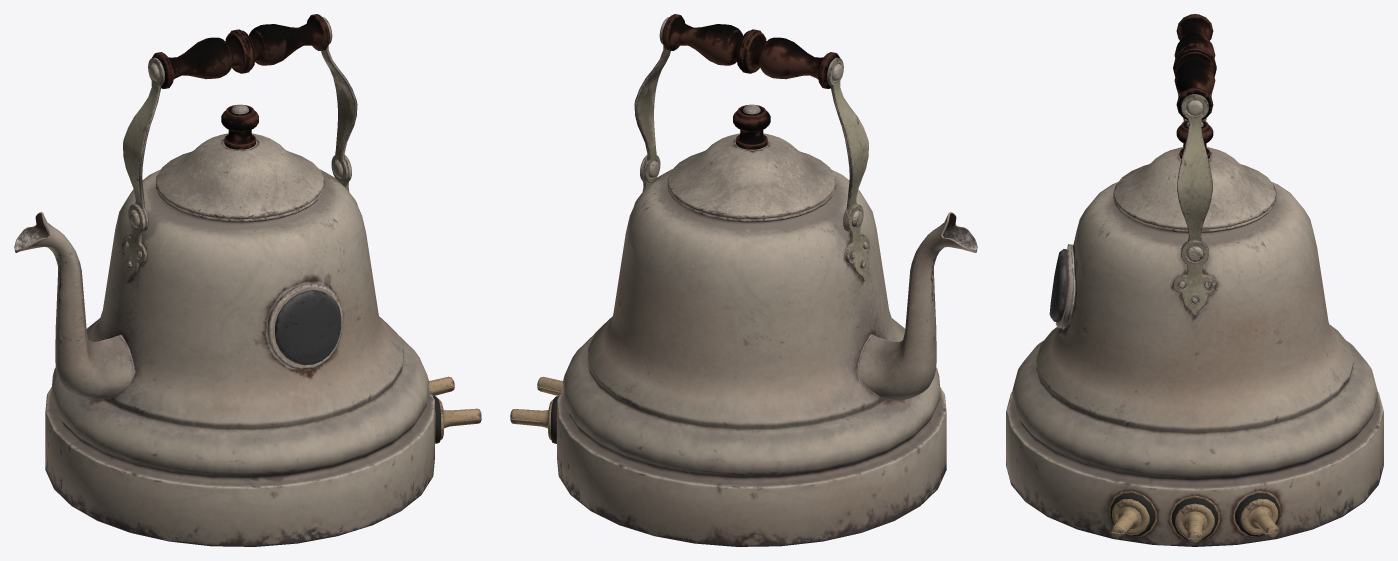
File: vintage_electric_kettle_1k.gltf
The picture shows the model from 3 angles, left to right: view 1: azimuth 30°, elevation 25°; view 2: azimuth 150°, elevation 25°; view 3: azimuth 270°, elevation 25°; orthographic projection. The views are drawn at different scales.
Visible parts, largest first — view 1: vintage_electric_kettle; view 2: vintage_electric_kettle; view 3: vintage_electric_kettle.
Boxes of the visible parts, x1,y1,x2,y2 form: vintage_electric_kettle: [14, 14, 481, 546]; vintage_electric_kettle: [510, 14, 977, 546]; vintage_electric_kettle: [1006, 14, 1383, 546].
Bounding box in the file's own units: 0.3209 × 0.3048 × 0.2486.
Materials: 2 (2 with a texture image).
